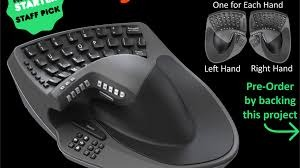keyboard: (26, 35, 140, 78)
